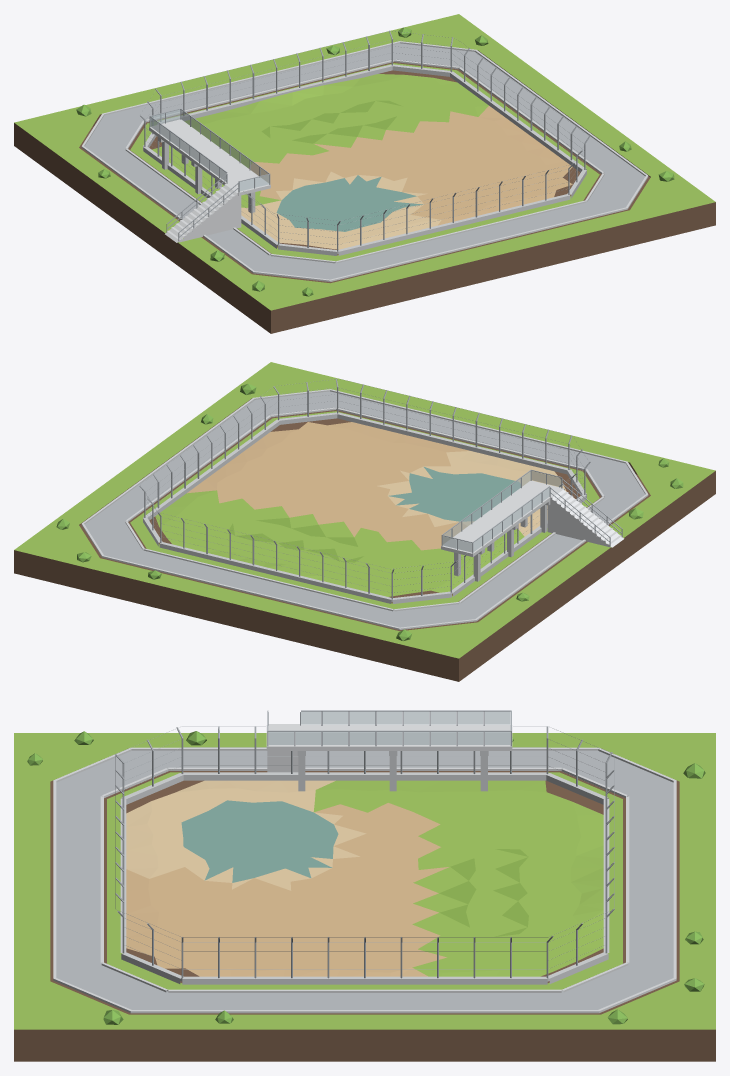
The model's file is enclosure_clean_50x50.glb.
The picture shows the model from 3 angles, top to bottom: view 1: azimuth 30°, elevation 25°; view 2: azimuth 150°, elevation 25°; view 3: azimuth 270°, elevation 25°; orthographic projection. The views are drawn at different scales.
Visible parts, largest first — view 1: Terrain_Mesh, Lawn_Outer, Road, Diorama_Base_Sides, Fence_Foundation, Verge_Inner, Curb_Outer, Curb_Inner, Deck_Slab, Fence_Posts, Deck_Rail_Glass, Fence_Rails (+5 smaller); view 2: Terrain_Mesh, Lawn_Outer, Road, Diorama_Base_Sides, Fence_Foundation, Verge_Inner, Curb_Outer, Curb_Inner, Deck_Slab, Fence_Posts, Deck_Rail_Glass, Fence_Rails (+5 smaller); view 3: Terrain_Mesh, Lawn_Outer, Road, Diorama_Base_Sides, Fence_Foundation, Verge_Inner, Deck_Slab, Deck_Rail_Glass, Curb_Outer, Curb_Inner, Fence_Posts, Fence_Rails (+3 smaller).
Part boxes in pixels (x1,y1,x2,y2): Terrain_Mesh: [152, 74, 572, 249]; Lawn_Outer: [14, 14, 715, 310]; Road: [84, 43, 645, 279]; Diorama_Base_Sides: [14, 50, 715, 333]; Fence_Foundation: [143, 64, 586, 255]; Verge_Inner: [130, 63, 599, 261]; Curb_Outer: [81, 41, 648, 281]; Curb_Inner: [125, 59, 604, 263]; Deck_Slab: [149, 119, 270, 195]; Fence_Posts: [139, 30, 589, 251]; Deck_Rail_Glass: [150, 109, 269, 191]; Fence_Rails: [140, 30, 589, 244]; Terrain_Mesh: [155, 422, 566, 596]; Lawn_Outer: [14, 362, 715, 658]; Road: [84, 391, 645, 627]; Diorama_Base_Sides: [14, 398, 715, 681]; Fence_Foundation: [143, 412, 586, 603]; Verge_Inner: [130, 411, 599, 609]; Curb_Outer: [81, 389, 648, 629]; Curb_Inner: [125, 407, 604, 611]; Deck_Slab: [441, 480, 560, 556]; Fence_Posts: [139, 378, 590, 599]; Deck_Rail_Glass: [442, 471, 561, 552]; Fence_Rails: [140, 378, 589, 592]; Terrain_Mesh: [126, 780, 603, 976]; Lawn_Outer: [14, 733, 715, 1029]; Road: [56, 750, 673, 1009]; Diorama_Base_Sides: [14, 771, 715, 1061]; Fence_Foundation: [120, 772, 609, 984]; Verge_Inner: [107, 772, 622, 989]; Deck_Slab: [266, 725, 512, 750]; Deck_Rail_Glass: [268, 711, 510, 744]; Curb_Outer: [53, 747, 676, 1013]; Curb_Inner: [100, 767, 629, 992]; Fence_Posts: [115, 726, 614, 978]; Fence_Rails: [115, 726, 614, 969].
Size of the model in its own units: 50.15 by 7.48 by 50.
